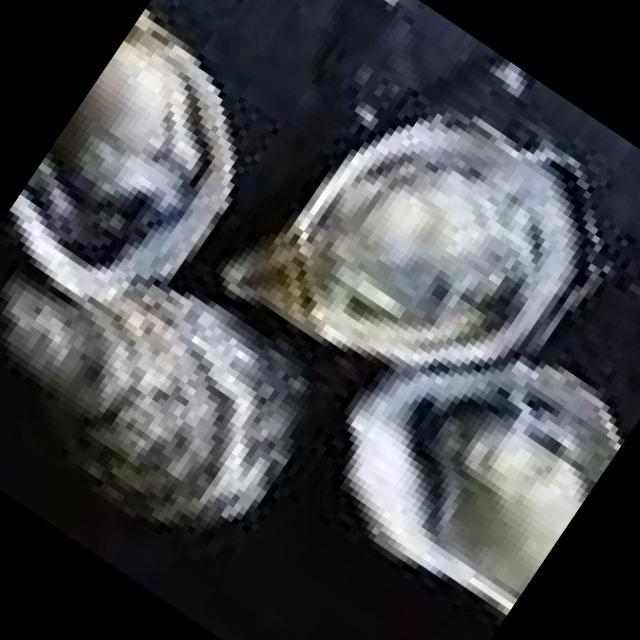Oyster-Closed: (4, 274, 306, 524), (12, 8, 234, 299)
Oyster-Open: (224, 114, 636, 366), (348, 360, 620, 612)
